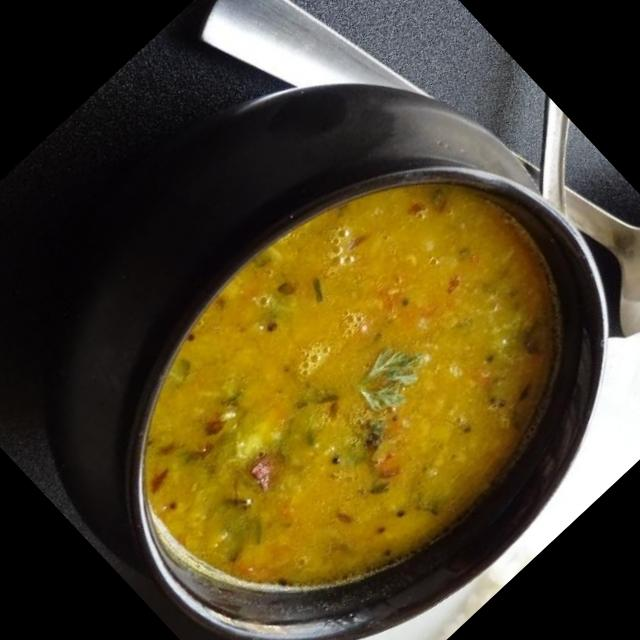dal: (147, 185, 564, 596)
